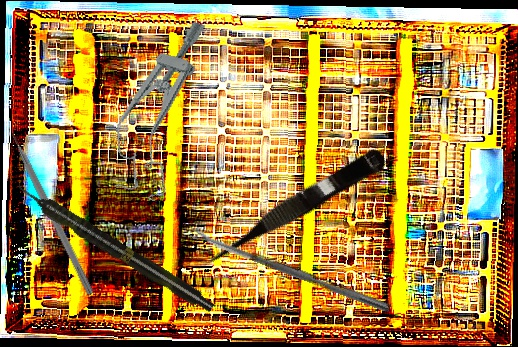Chopper: (3, 115, 104, 297)
Handpiece: (12, 178, 218, 317)
Micro Scissor: (192, 140, 390, 276)
Speculum: (98, 9, 219, 204)
Surgical Spoon: (189, 227, 392, 313)
